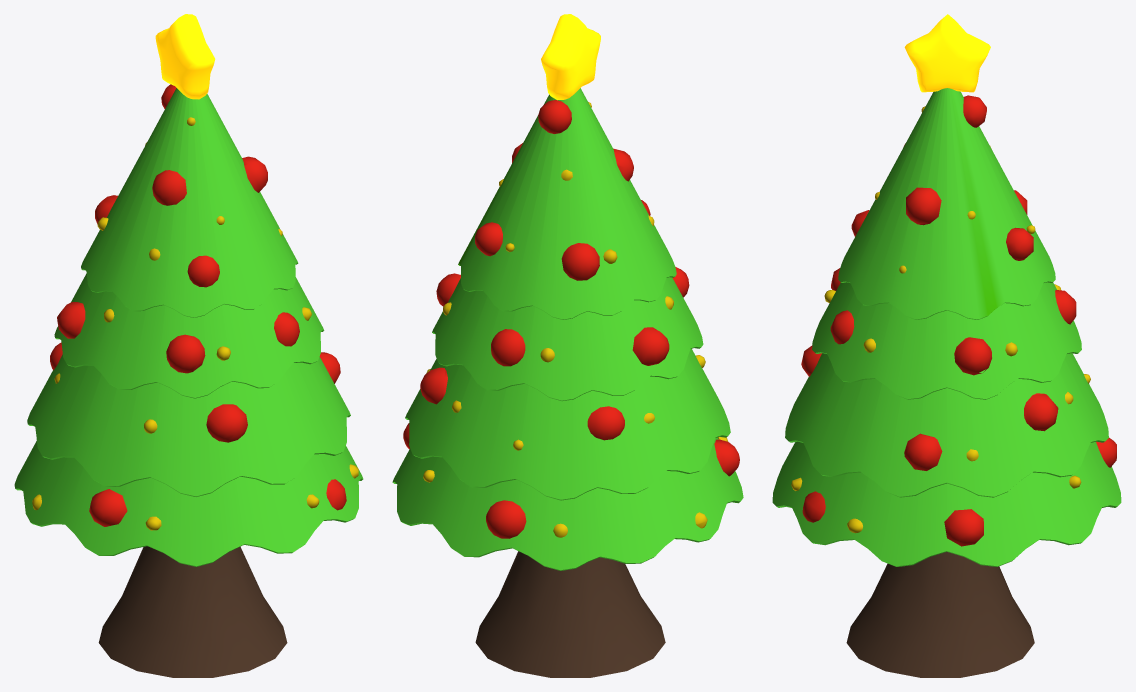
File: arbol_navidad.fbx
The picture shows the model from 3 angles, left to right: view 1: azimuth 30°, elevation 25°; view 2: azimuth 150°, elevation 25°; view 3: azimuth 270°, elevation 25°; orthographic projection.
Visible parts, largest first — view 1: Cylinder.005; view 2: Cylinder.005; view 3: Cylinder.005.
Boxes of the visible parts, x1,y1,x2,y2 form: Cylinder.005: [14, 14, 363, 677]; Cylinder.005: [392, 14, 743, 677]; Cylinder.005: [772, 14, 1121, 677].
Size of the model in its own units: 328 by 647 by 329.
